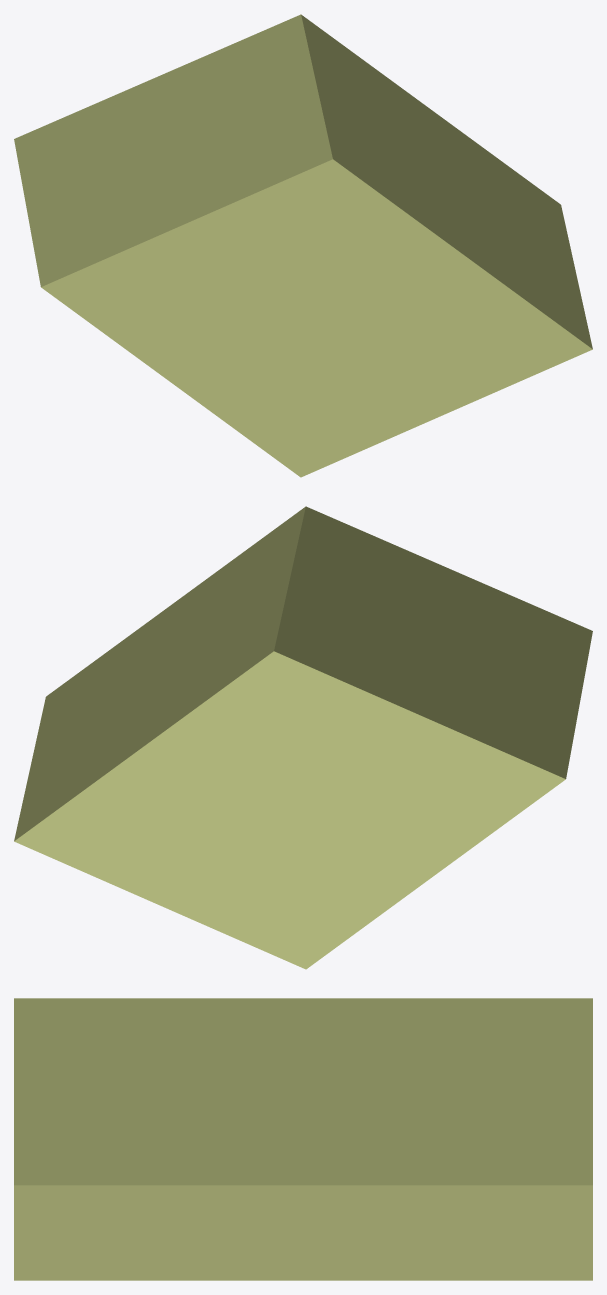
3 renders of one model, top to bottom at view 1: azimuth 30°, elevation 25°; view 2: azimuth 150°, elevation 25°; view 3: azimuth 270°, elevation 25°, orthographic. The views are drawn at different scales.
Visible parts, largest first — view 1: 0_0_1_2_0_0_0_3_3_3; view 2: 0_0_1_2_0_0_0_3_3_3; view 3: 0_0_1_2_0_0_0_3_3_3.
Boxes of the visible parts, x1,y1,x2,y2 form: 0_0_1_2_0_0_0_3_3_3: (14, 14, 592, 477); 0_0_1_2_0_0_0_3_3_3: (14, 506, 592, 969); 0_0_1_2_0_0_0_3_3_3: (14, 998, 592, 1280).
Size of the model in its own units: 6.38 by 4 by 9.
